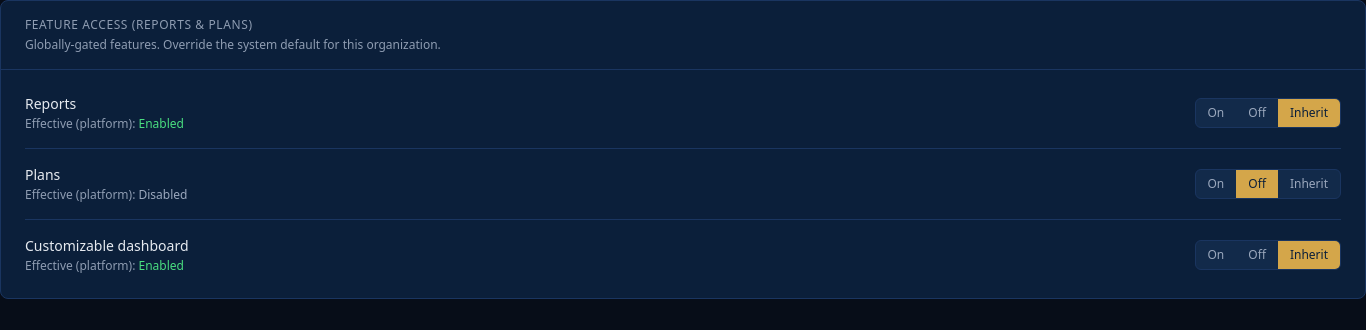
Scenario: OrgFeatureGateCard › PUTs {value:'on'} when Reports is set to on and updates row from response
The width and height of the screenshot is (1366, 330).
Expected: the text "Reports" is shown, [25,94,76,113]
Expected: the 1st element showing "on off inherit" is shown, [1194,98,1341,128]
Click the 1st button "on".
click(1216, 113)  # box [1196,99,1236,127]
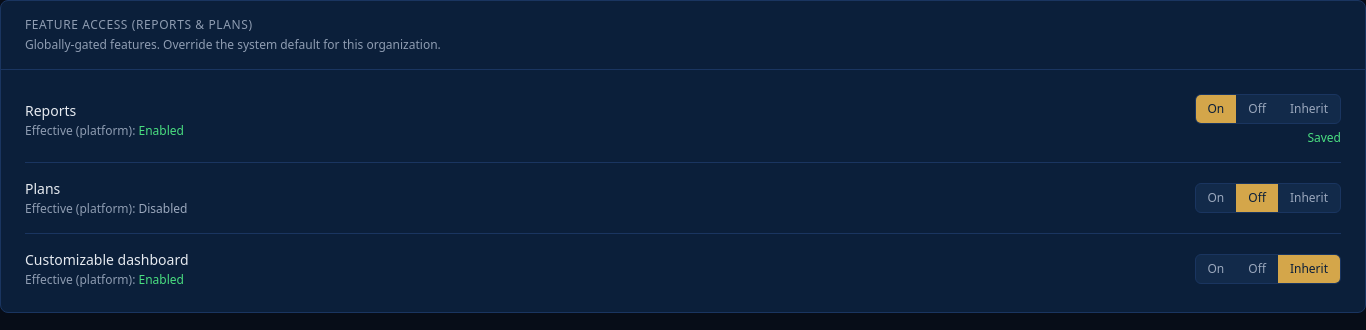
Expected: the text "Saved" is shown, [1307,130,1341,146]
